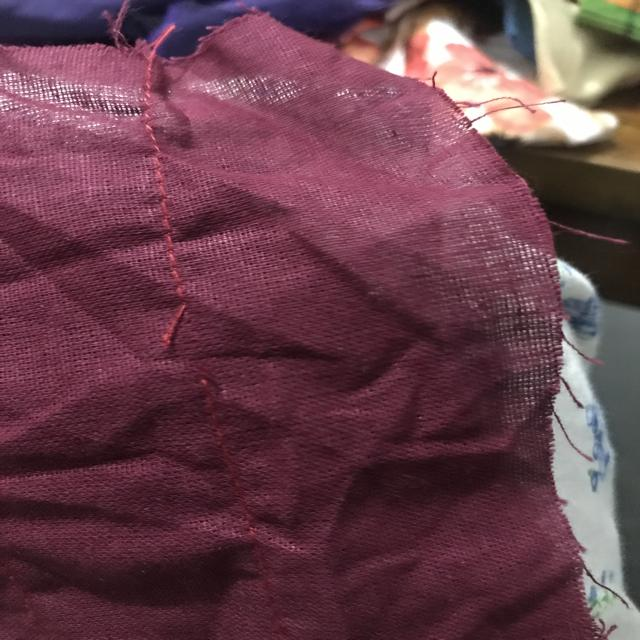broken: (159, 293, 231, 397)
